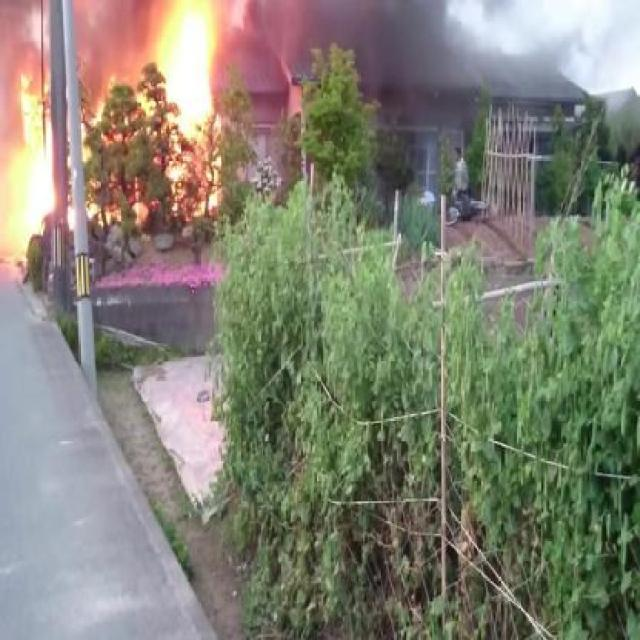Fire: (80, 4, 230, 252), (2, 52, 60, 282)
